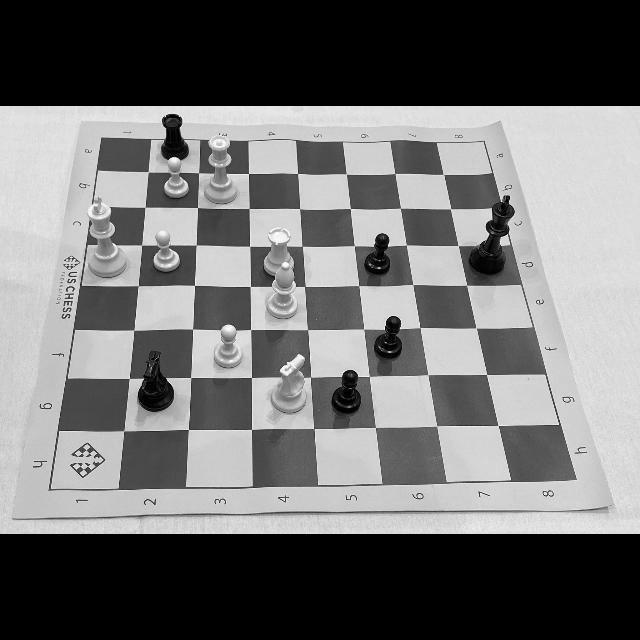chessboard: (53, 138, 578, 489)
